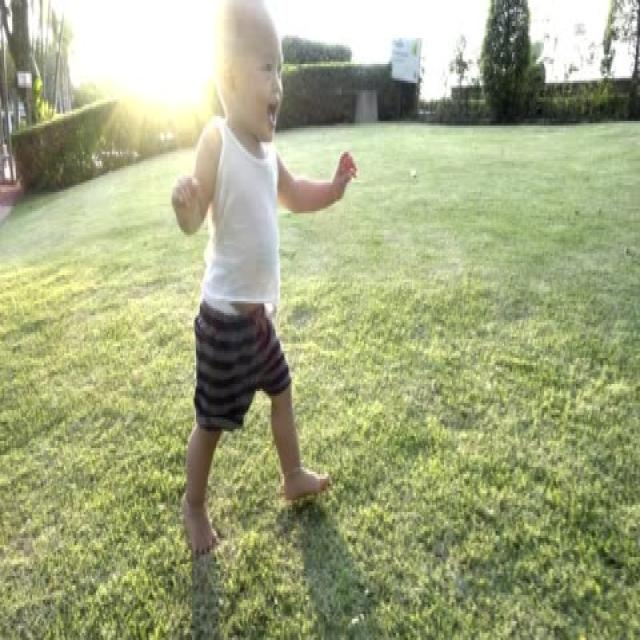Person: (171, 1, 355, 551)
